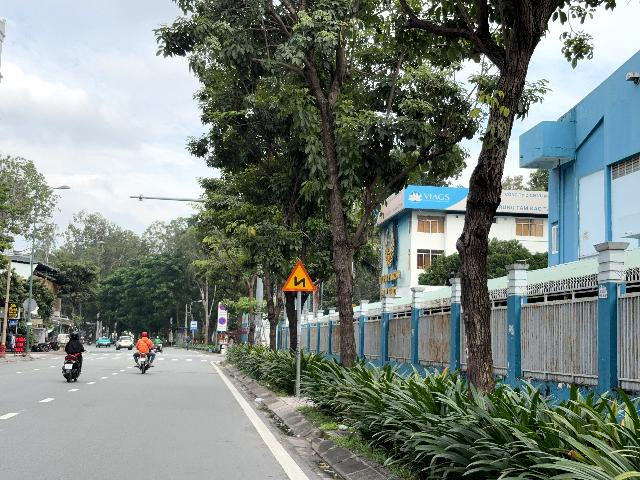nhieu-cho-ngoat-nguy-hiem-lien-tiep: (282, 260, 316, 291)
